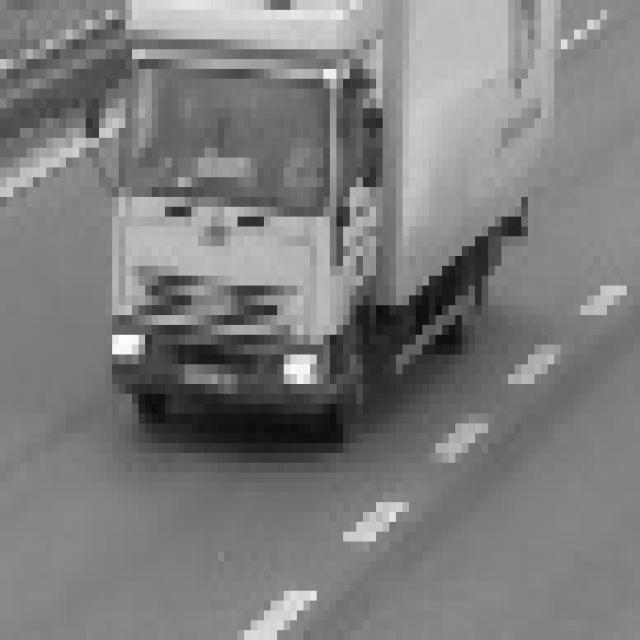truck: (74, 1, 412, 429)
